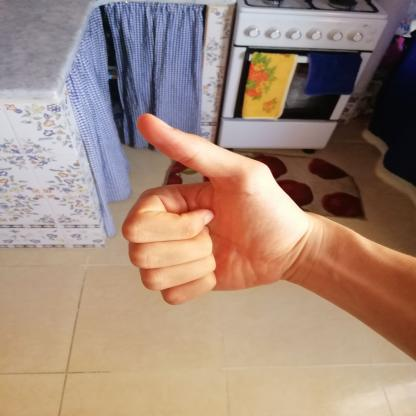ALIF: (98, 98, 326, 317)
